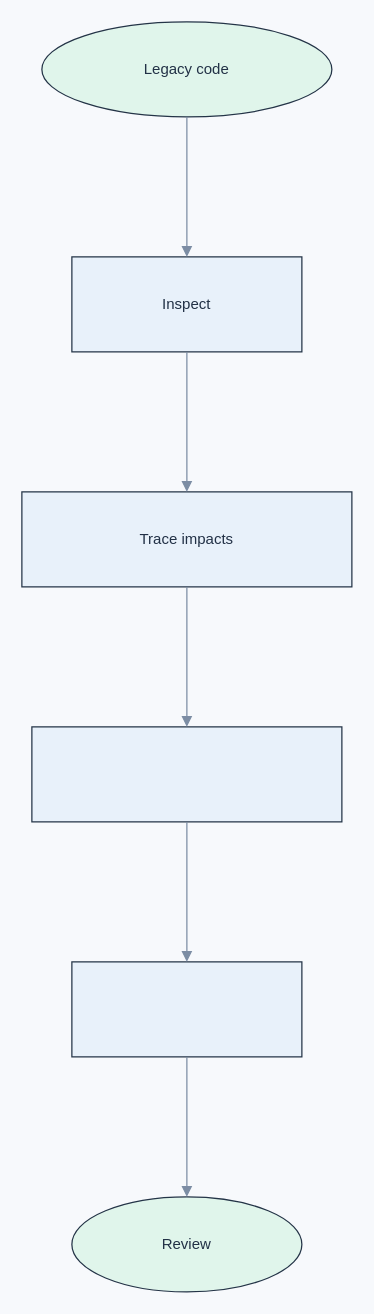
The diagram is 374 pixels wide and 1314 high, and some of its shapes have lost their labels. Each missing label, with the centre of its shape:
Set criteria: the point at 186,774
Verify: the point at 186,1009
